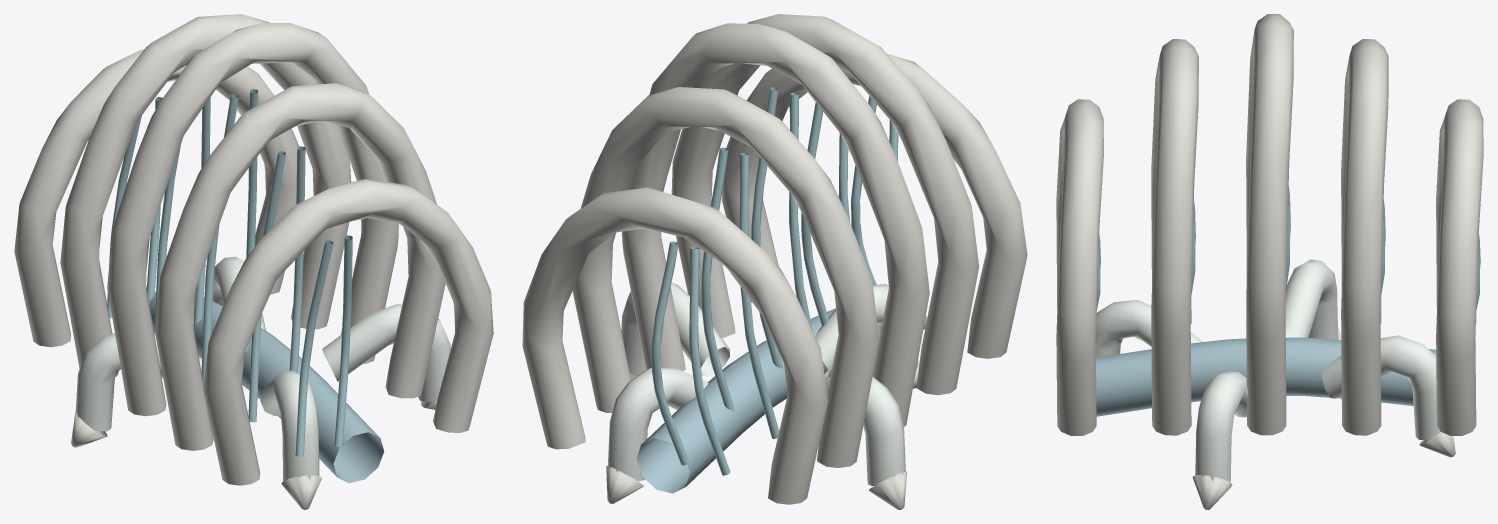
File: bio_blind_harp_07_far.glb
3 views of the same model, side by side, from view 1: azimuth 30°, elevation 25°; view 2: azimuth 150°, elevation 25°; view 3: azimuth 270°, elevation 25° (orthographic). The views are drawn at different scales.
Parts seen in each view (by area): view 1: Open rib arch.001, Open rib arch.002, Open rib arch, Open rib arch.003, Open rib arch.004, Low axial spine, Crooked support.003, Resonance filament, Crooked support.002, Crooked support.001, Resonance filament.002, Resonance filament.004 (+5 smaller); view 2: Open rib arch.003, Open rib arch.002, Open rib arch.004, Open rib arch.001, Open rib arch, Low axial spine, Crooked support, Resonance filament.008, Resonance filament.006, Crooked support.001, Crooked support.003, Resonance filament.004 (+5 smaller); view 3: Open rib arch.002, Open rib arch.003, Open rib arch.001, Open rib arch.004, Open rib arch, Low axial spine, Crooked support, Crooked support.003, Crooked support.001, Crooked support.002, Contact spur.003, Contact spur.
Boxes of the visible parts, x1=… form: Open rib arch.001: x1=155, y1=83, x2=445, y2=450; Open rib arch.002: x1=107, y1=23, x2=398, y2=416; Open rib arch: x1=203, y1=179, x2=493, y2=485; Open rib arch.003: x1=60, y1=14, x2=351, y2=377; Open rib arch.004: x1=14, y1=49, x2=299, y2=347; Low axial spine: x1=149, y1=291, x2=384, y2=483; Crooked support.003: x1=322, y1=304, x2=450, y2=401; Resonance filament: x1=295, y1=235, x2=352, y2=456; Crooked support.002: x1=260, y1=370, x2=319, y2=481; Crooked support.001: x1=75, y1=333, x2=201, y2=431; Resonance filament.002: x1=248, y1=146, x2=305, y2=422; Resonance filament.004: x1=201, y1=89, x2=258, y2=384; Open rib arch.003: x1=572, y1=87, x2=879, y2=467; Open rib arch.002: x1=622, y1=23, x2=929, y2=426; Open rib arch.004: x1=522, y1=187, x2=828, y2=504; Open rib arch.001: x1=671, y1=14, x2=978, y2=394; Open rib arch: x1=721, y1=53, x2=1027, y2=358; Low axial spine: x1=636, y1=308, x2=878, y2=493; Crooked support: x1=608, y1=367, x2=708, y2=481; Resonance filament.008: x1=651, y1=241, x2=730, y2=475; Resonance filament.006: x1=701, y1=147, x2=779, y2=438; Crooked support.001: x1=825, y1=376, x2=905, y2=485; Crooked support.003: x1=621, y1=282, x2=729, y2=376; Resonance filament.004: x1=751, y1=87, x2=812, y2=391; Open rib arch.002: x1=1246, y1=14, x2=1293, y2=435; Open rib arch.003: x1=1341, y1=39, x2=1388, y2=435; Open rib arch.001: x1=1151, y1=39, x2=1198, y2=435; Open rib arch.004: x1=1436, y1=99, x2=1483, y2=435; Open rib arch: x1=1056, y1=99, x2=1103, y2=435; Low axial spine: x1=1096, y1=337, x2=1436, y2=416; Crooked support: x1=1322, y1=335, x2=1440, y2=439; Crooked support.003: x1=1195, y1=371, x2=1247, y2=482; Crooked support.001: x1=1285, y1=259, x2=1338, y2=339; Crooked support.002: x1=1095, y1=300, x2=1202, y2=357; Contact spur.003: x1=1192, y1=475, x2=1232, y2=509; Contact spur: x1=1419, y1=432, x2=1455, y2=457.
Bounding box in the file's own units: 1.92 × 2.27 × 2.18.
